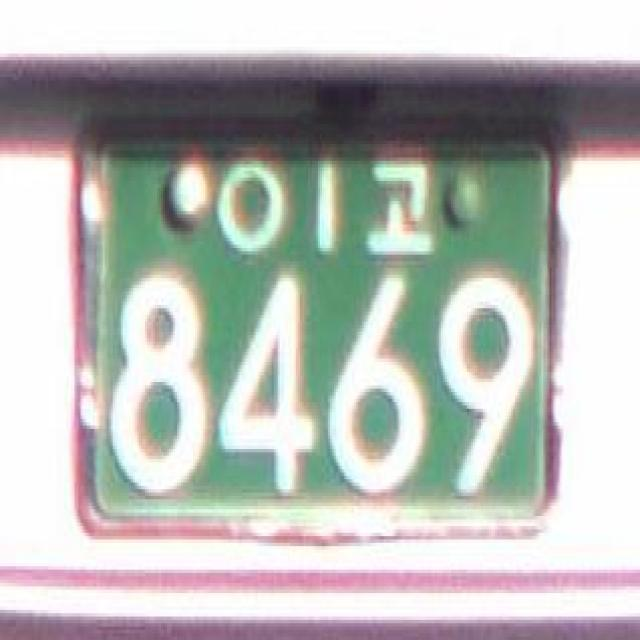illegal_plate: (57, 83, 576, 580)
